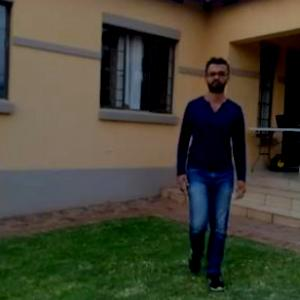follow: (172, 48, 246, 294)
